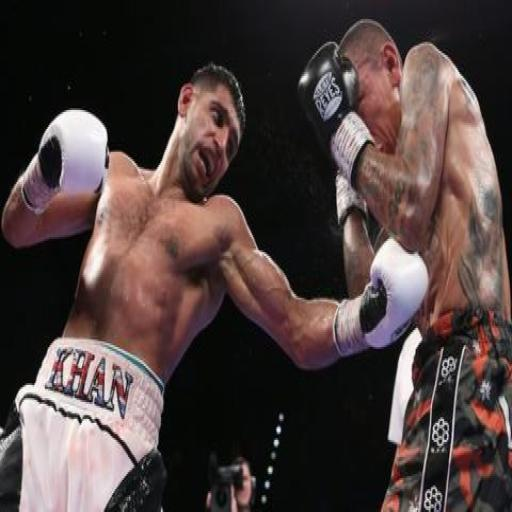boxing: (0, 57, 429, 508), (296, 17, 511, 508)
